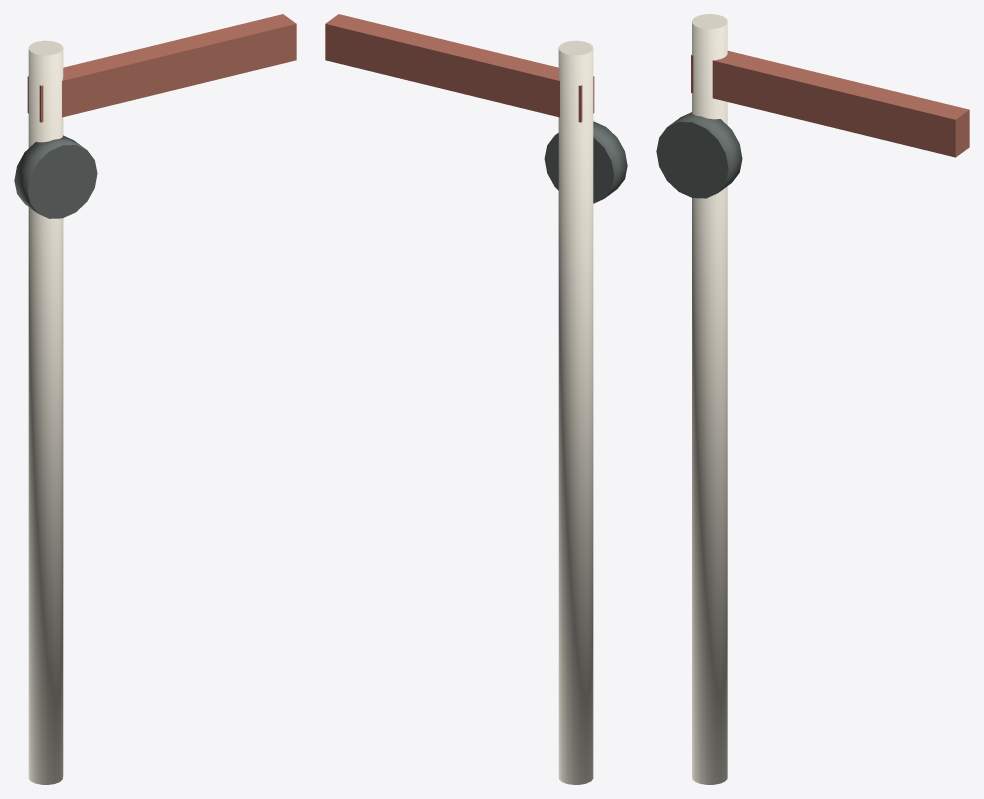
The model's file is rhine-signal_lod0.glb.
The picture shows the model from 3 angles, left to right: view 1: azimuth 30°, elevation 25°; view 2: azimuth 150°, elevation 25°; view 3: azimuth 330°, elevation 25°; orthographic projection. The views are drawn at different scales.
Visible parts, largest first — view 1: RF_SignalPost, RF_Semaphore, RF_SignalLamp; view 2: RF_SignalPost, RF_Semaphore, RF_SignalLamp; view 3: RF_SignalPost, RF_Semaphore, RF_SignalLamp.
Part boxes in pixels (box(x1,y1,x2,y2)): RF_SignalPost: box(28, 40, 63, 784); RF_Semaphore: box(27, 14, 296, 122); RF_SignalLamp: box(14, 135, 97, 218); RF_SignalPost: box(558, 40, 593, 784); RF_Semaphore: box(325, 14, 594, 122); RF_SignalLamp: box(544, 121, 627, 203); RF_SignalPost: box(692, 14, 727, 784); RF_Semaphore: box(691, 50, 969, 157); RF_SignalLamp: box(656, 112, 742, 198).
Size of the model in its own units: 2.4 by 6 by 0.38.
